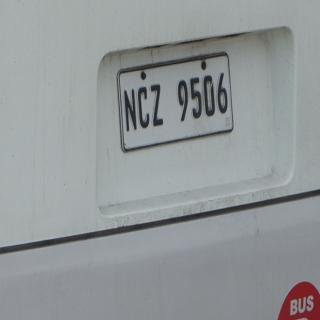license: (119, 54, 234, 152)
